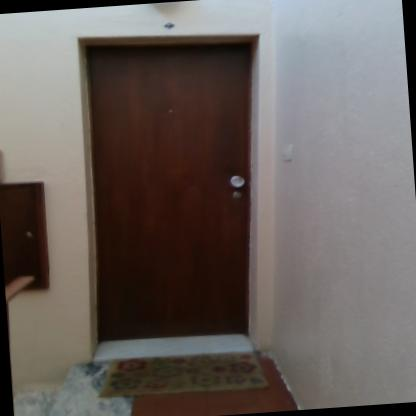closed: (60, 10, 294, 361)
